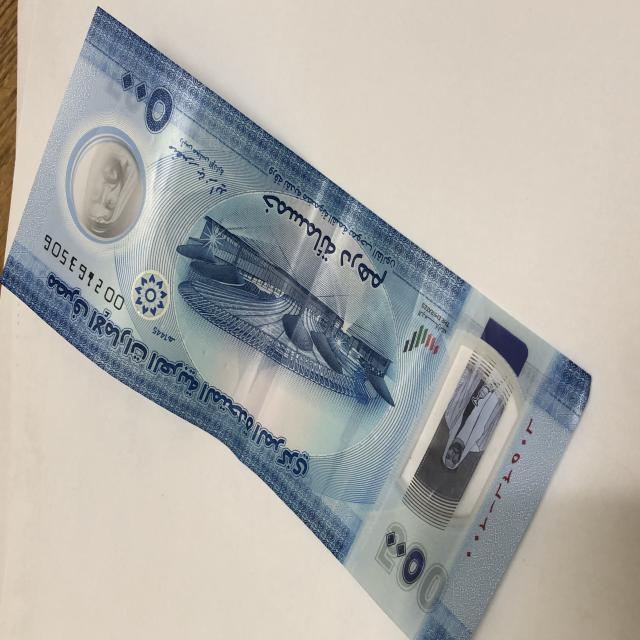500_AED: (1, 6, 598, 638)
